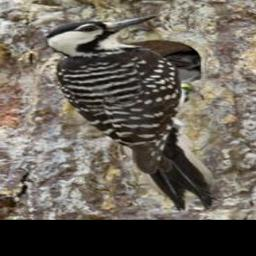Woodpecker: (43, 14, 220, 212)
